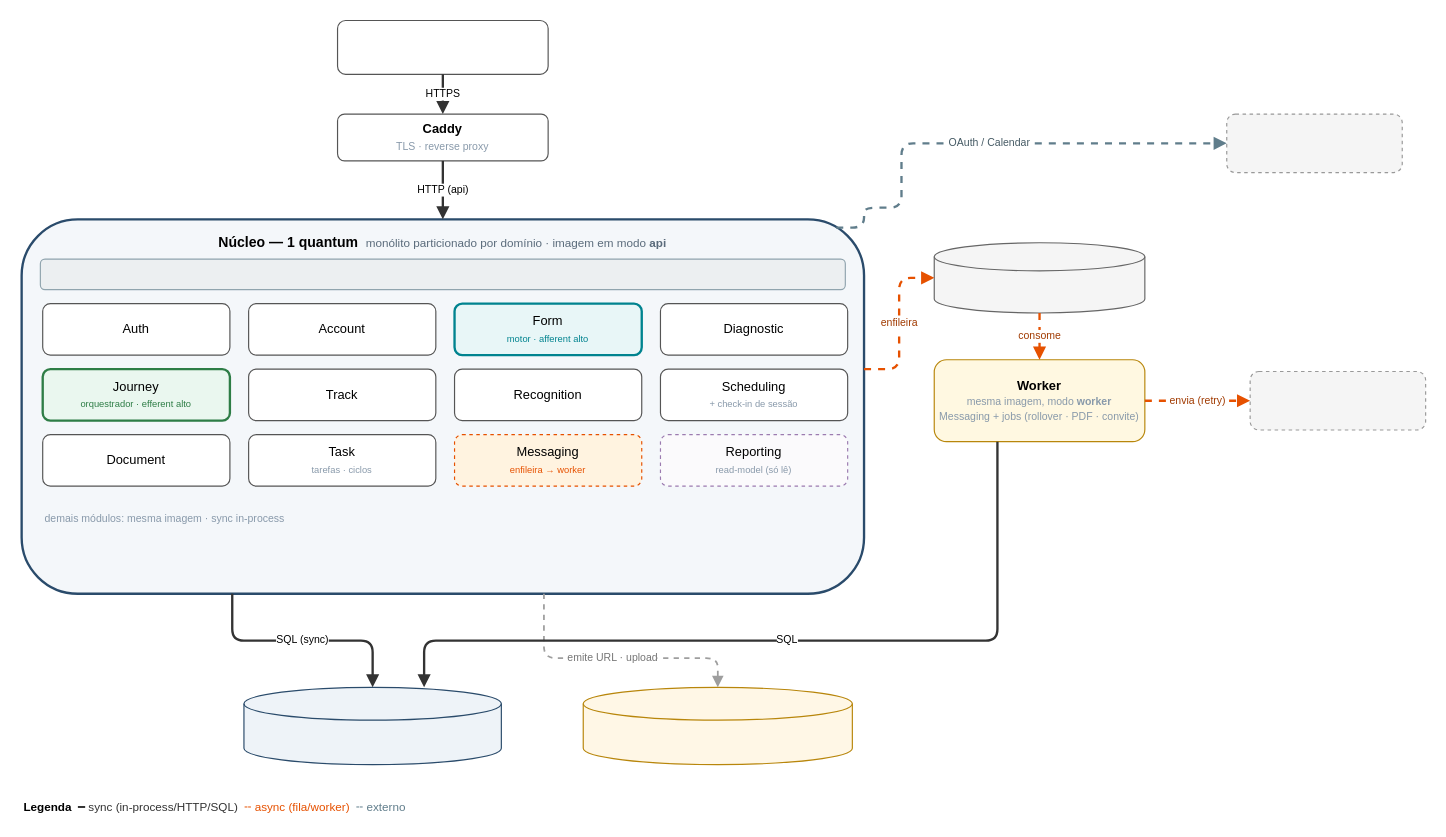
The diagram is 1446 pixels wide and 837 high, and some of its shapes have lost their labels. Here are the shapes that lost their labels. From the top down, the centre of each, then its label:
the point at 442,46: Navegador (SPA) UI · rotas em PT
the point at 1314,143: Google OAuth · Calendar
the point at 442,274: Scope — guard multi-tenant em toda request (JWT/RBAC · escopo · RNF-2/3)
the point at 1039,277: Redis · BullMQ fila durável
the point at 1337,400: WhatsApp provedor externo
the point at 372,725: Postgres único · tabelas por módulo
the point at 717,725: MinIO blobs · cliente baixa direto (presigned URL)
